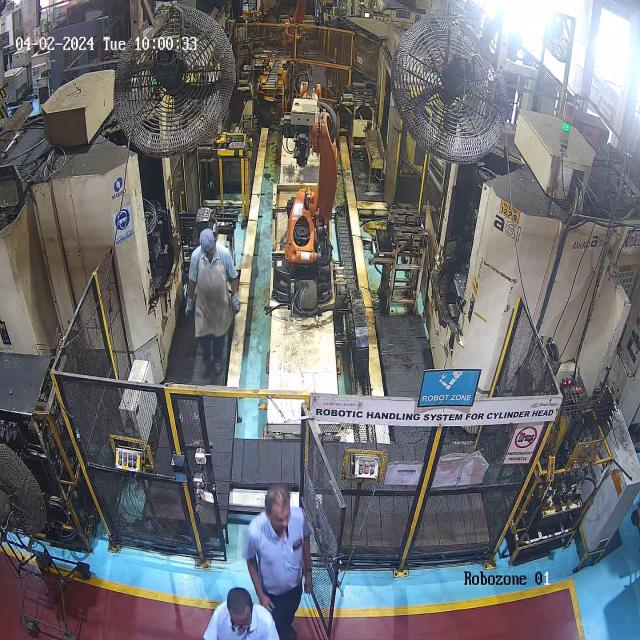person: (185, 230, 243, 378), (242, 483, 315, 591), (202, 585, 280, 640)
